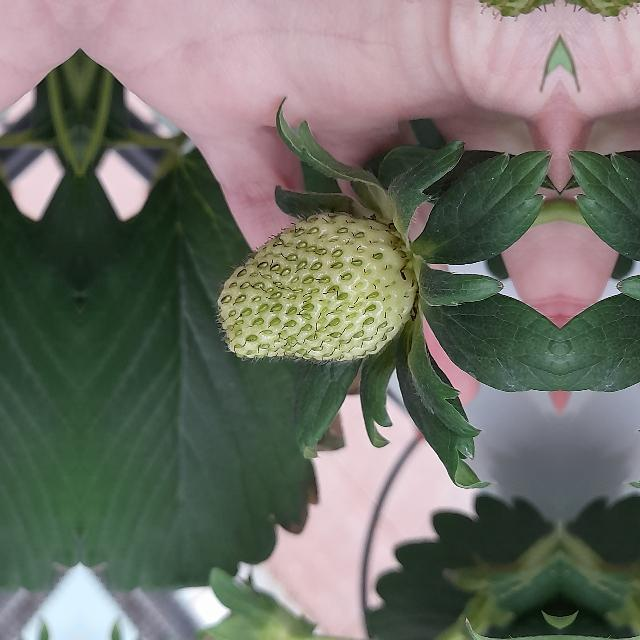Health_25: (216, 211, 418, 361)
